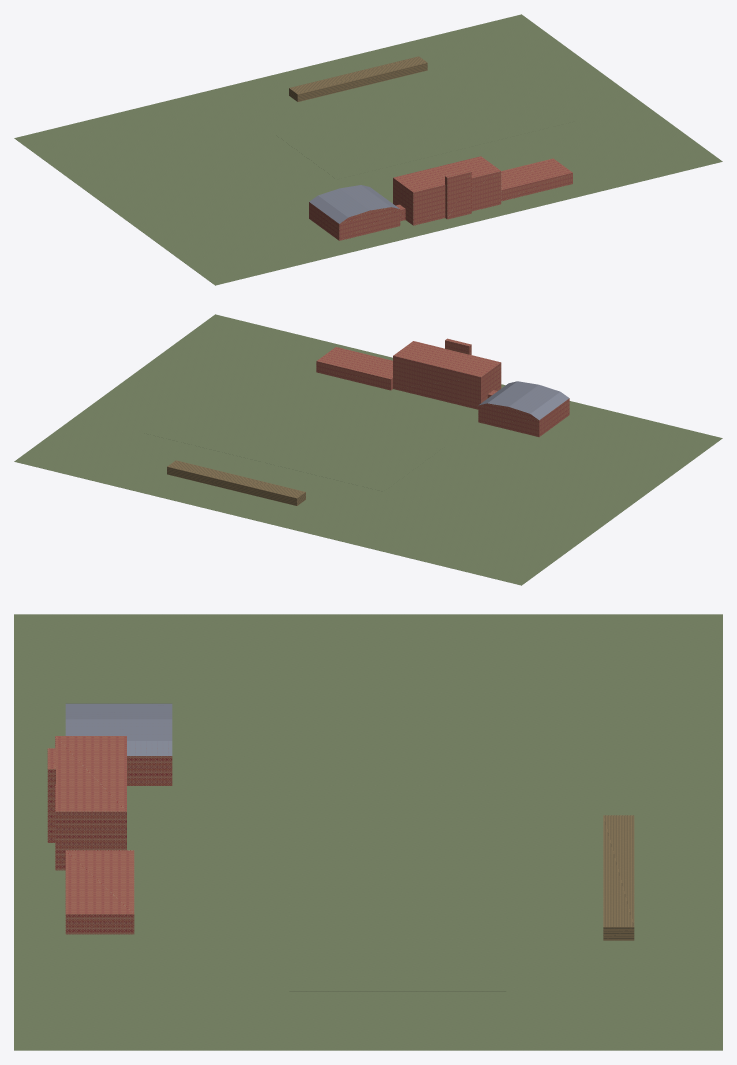
File: school-far.glb
3 views of the same model, one above another, from view 1: azimuth 30°, elevation 25°; view 2: azimuth 150°, elevation 25°; view 3: azimuth 270°, elevation 25° (orthographic). The views are drawn at different scales.
Visible parts, largest first — view 1: Far grounds, Far field, Far main, Far bleachers, Far wing, Far gym, Far tower, Far gym bow.002, Far gym bow.001; view 2: Far grounds, Far field, Far main, Far bleachers, Far wing, Far gym, Far gym bow.002, Far gym bow.001; view 3: Far grounds, Far field, Far main, Far wing, Far bleachers, Far gym bow.001, Far gym bow.002, Far gym, Far tower, Far gym bow.
Part boxes in pixels (x1=…): Far grounds: x1=14, y1=14, x2=722, y2=285; Far field: x1=275, y1=76, x2=575, y2=179; Far main: x1=393, y1=156, x2=501, y2=225; Far bleachers: x1=289, y1=56, x2=427, y2=101; Far wing: x1=501, y1=158, x2=572, y2=201; Far gym: x1=309, y1=202, x2=400, y2=240; Far tower: x1=445, y1=170, x2=471, y2=219; Far gym bow.002: x1=318, y1=188, x2=369, y2=217; Far gym bow.001: x1=340, y1=185, x2=390, y2=210; Far grounds: x1=14, y1=314, x2=722, y2=585; Far field: x1=144, y1=388, x2=444, y2=491; Far main: x1=393, y1=341, x2=501, y2=409; Far bleachers: x1=167, y1=460, x2=305, y2=505; Far wing: x1=316, y1=347, x2=392, y2=390; Far gym: x1=478, y1=398, x2=569, y2=436; Far gym bow.002: x1=509, y1=385, x2=560, y2=413; Far gym bow.001: x1=488, y1=381, x2=538, y2=406; Far grounds: x1=14, y1=614, x2=722, y2=1050; Far field: x1=289, y1=785, x2=506, y2=991; Far main: x1=55, y1=736, x2=126, y2=870; Far wing: x1=65, y1=850, x2=134, y2=934; Far bleachers: x1=603, y1=815, x2=634, y2=940; Far gym bow.001: x1=65, y1=719, x2=172, y2=740; Far gym bow.002: x1=65, y1=704, x2=172, y2=719; Far gym: x1=127, y1=756, x2=172, y2=785; Far tower: x1=47, y1=748, x2=55, y2=842; Far gym bow: x1=127, y1=741, x2=172, y2=755.
Size of the model in its own units: 233 by 18.31 by 160.
4 materials, 4 textured.
